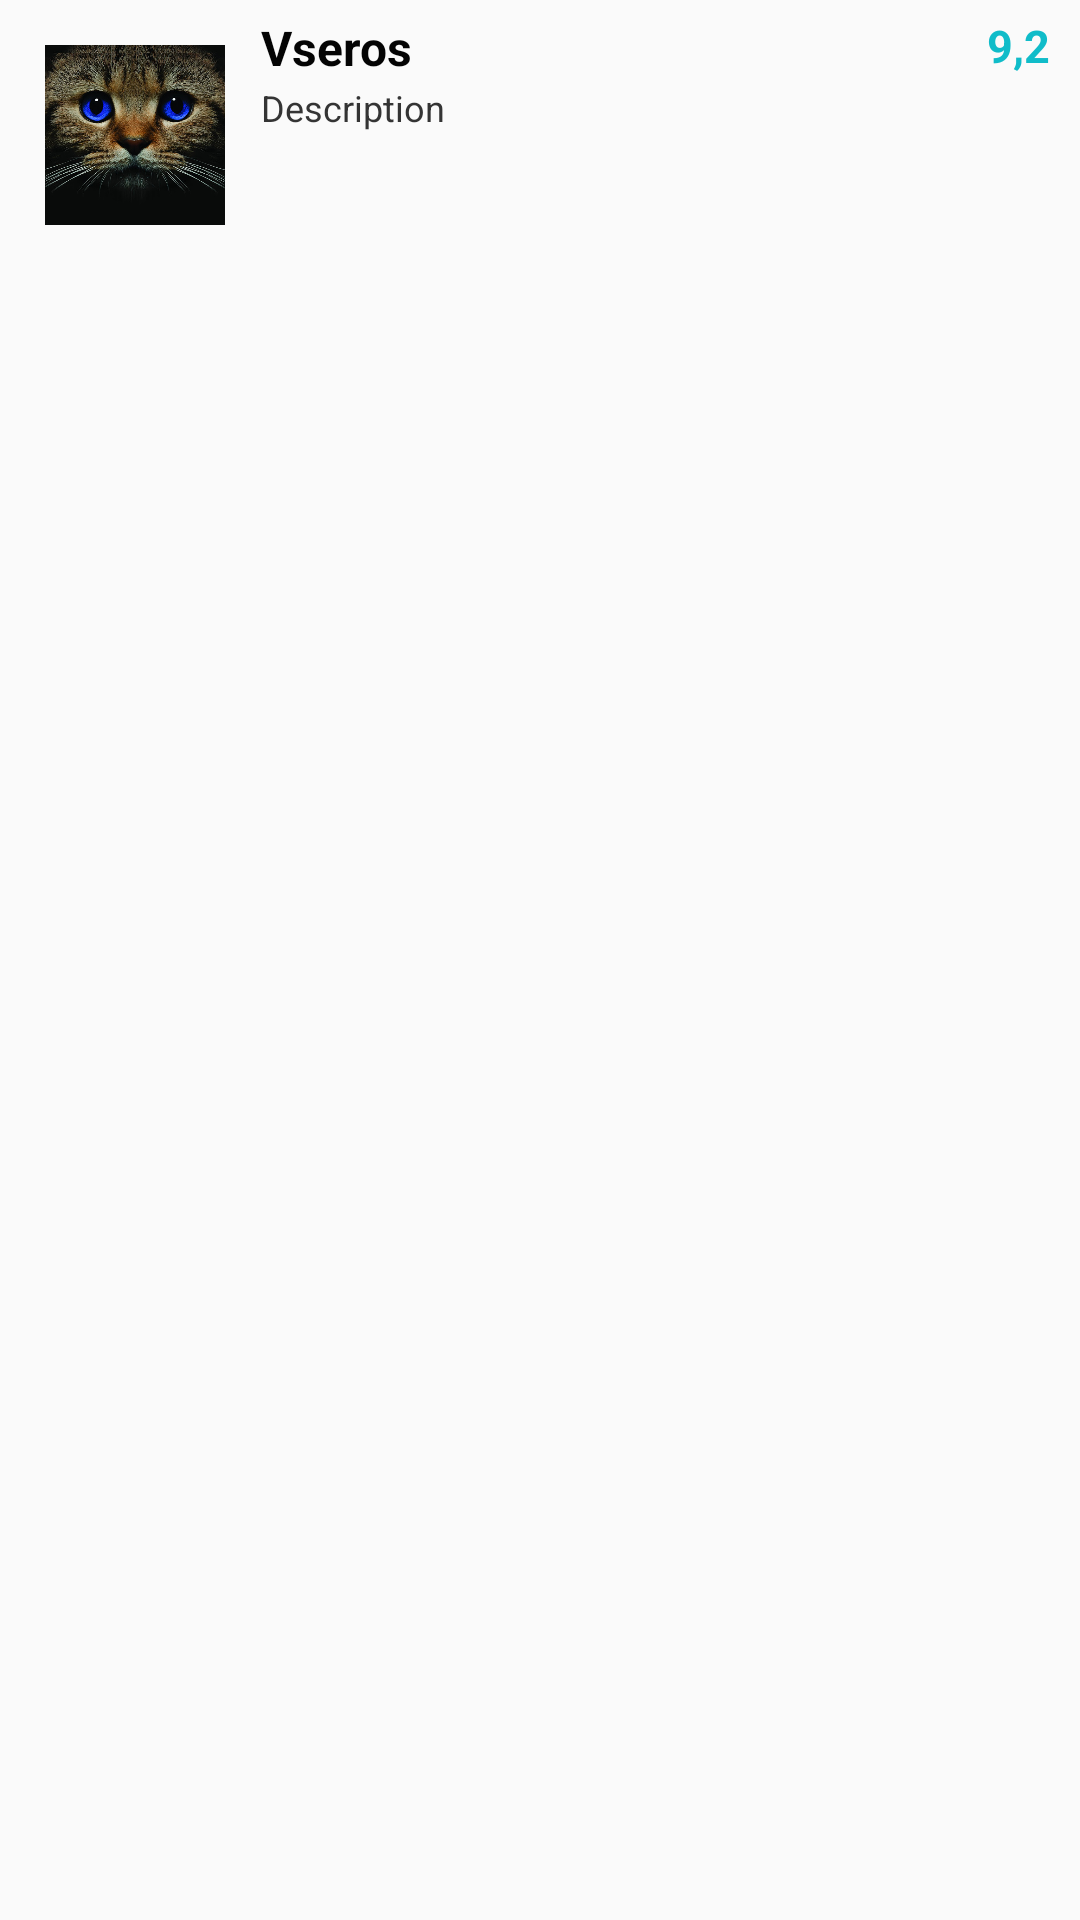

Icons on this 1080*1920 Android screen, each with its box as (x1=x1, y1=y1, x2=x2, y2=y2):
citty: (x1=45, y1=45, x2=225, y2=225)
